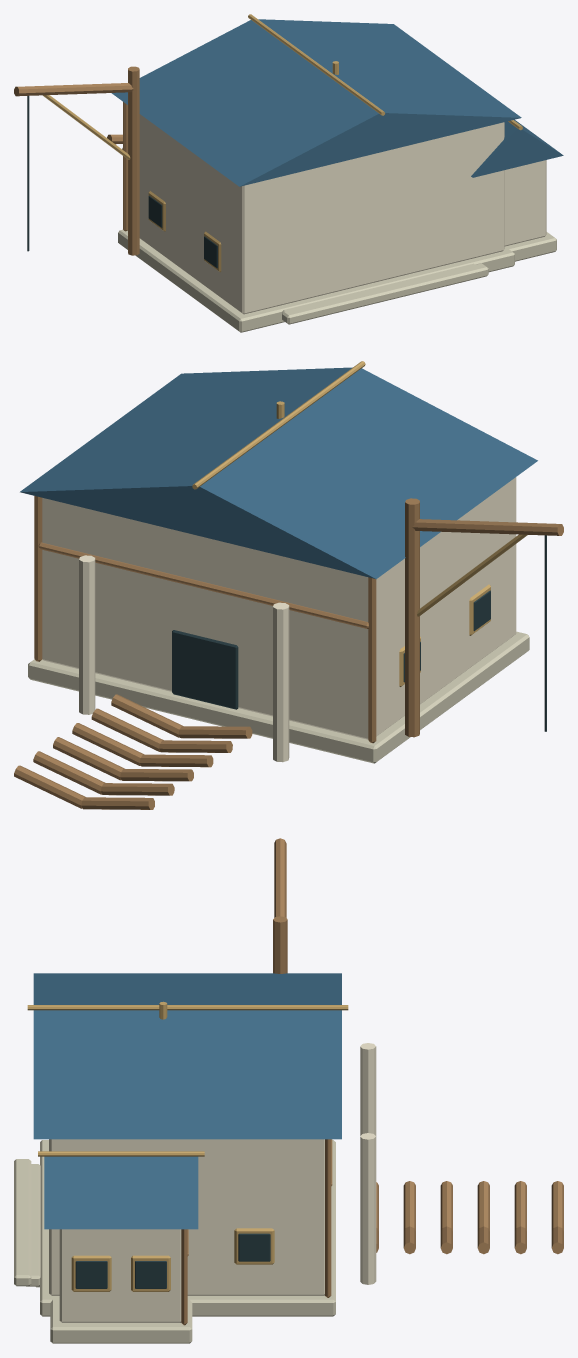
File: level_30.glb
3 renders of one model, top to bottom at view 1: azimuth 30°, elevation 25°; view 2: azimuth 150°, elevation 25°; view 3: azimuth 270°, elevation 25°, orthographic. The views are drawn at different scales.
Visible parts, largest first — view 1: shipyard — level 30; view 2: shipyard — level 30; view 3: shipyard — level 30.
Part boxes in pixels (x1,y1,x2,y2): shipyard — level 30: (14, 14, 563, 332); shipyard — level 30: (14, 361, 563, 809); shipyard — level 30: (14, 838, 563, 1343).
Bounding box in the file's own units: 10.13 × 4.41 × 8.92.
